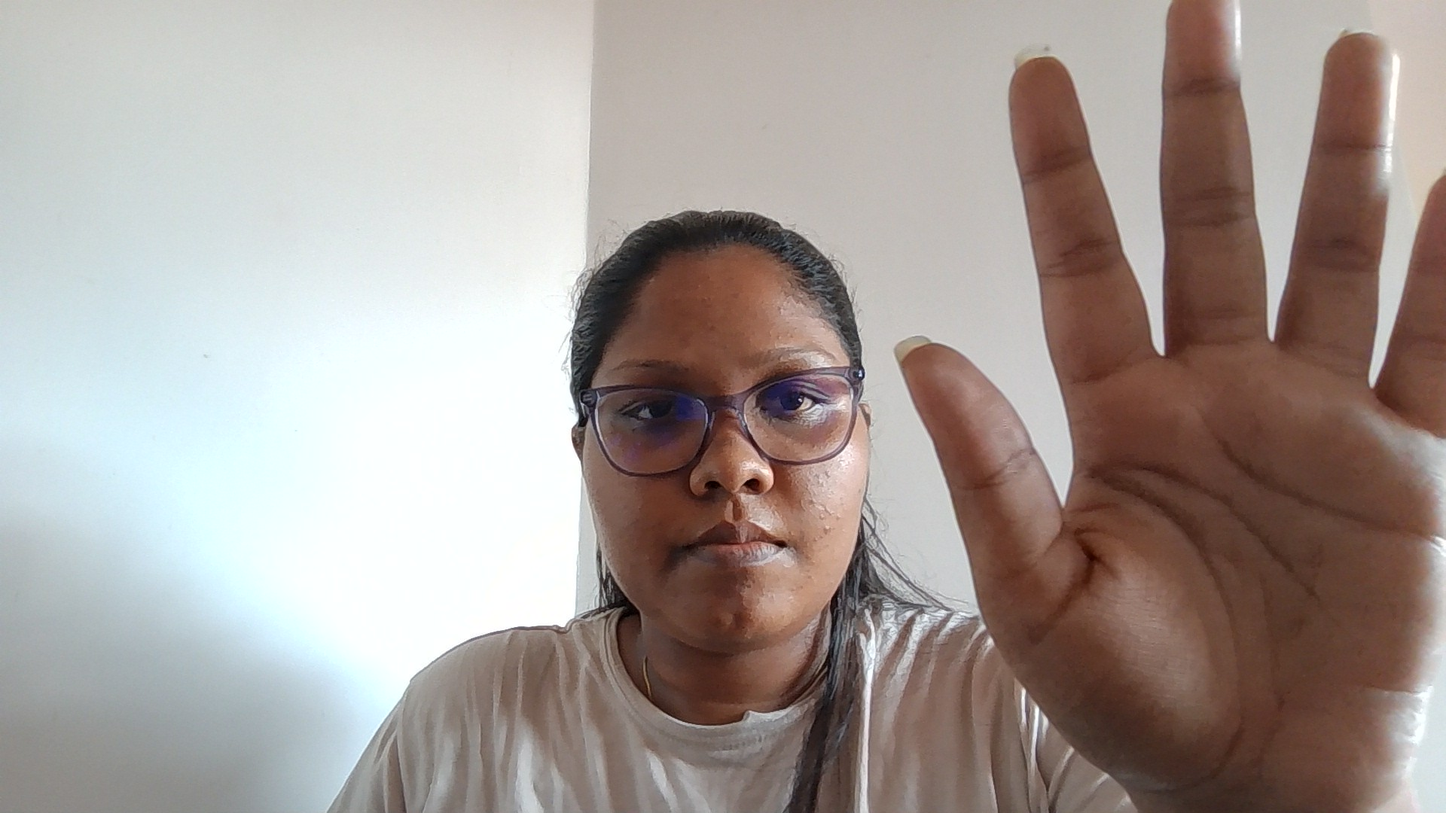Good_Luck: (879, 6, 1446, 796)
